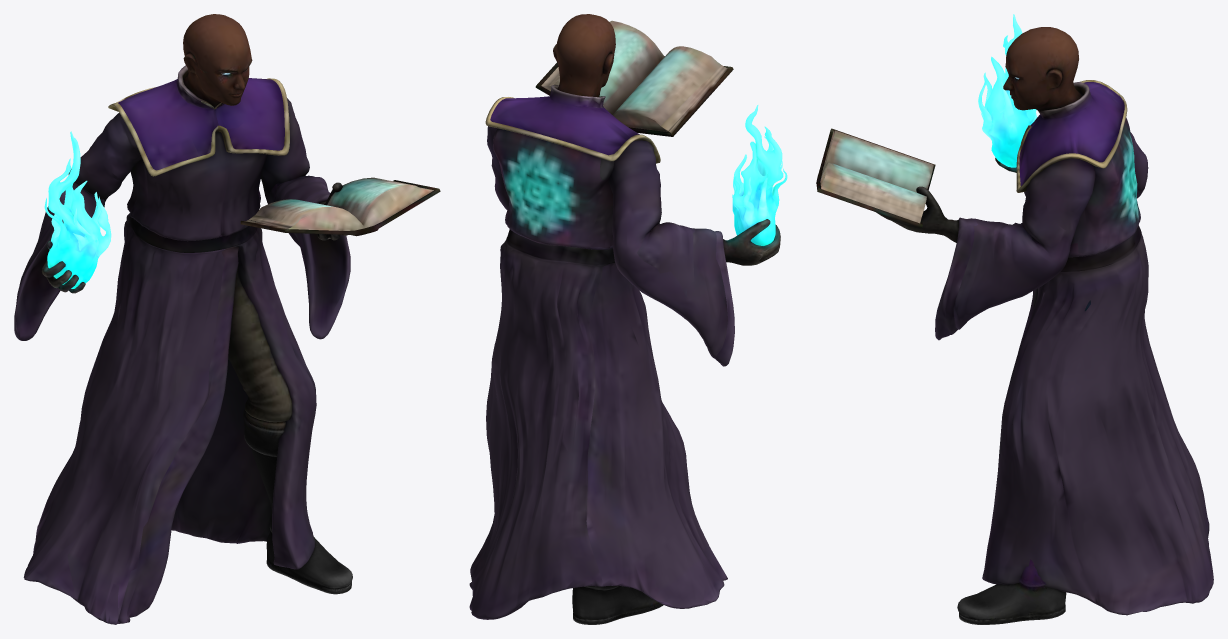
The model's file is MZ4250 - Mage Apprentice Male_1 2025.glb.
The picture shows the model from 3 angles, left to right: view 1: azimuth 30°, elevation 25°; view 2: azimuth 150°, elevation 25°; view 3: azimuth 270°, elevation 25°; orthographic projection. The views are drawn at different scales.
Parts seen in each view (by area): view 1: Body.002; view 2: Body.002; view 3: Body.002.
Part boxes in pixels (x1,y1,x2,y2): Body.002: (14,14,440,624); Body.002: (469,14,787,624); Body.002: (816,14,1213,624).
Bounding box in the file's own units: 50.92 × 90.69 × 59.04.
Materials: 3 (3 with a texture image).
